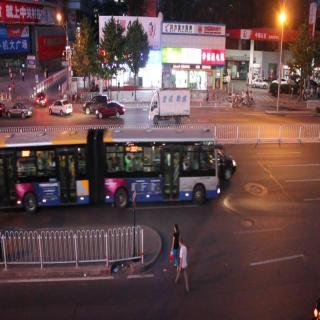BigCar: (0, 130, 233, 215), (144, 89, 194, 124)
Car: (3, 97, 34, 122), (81, 88, 109, 115), (49, 95, 74, 123), (94, 104, 127, 122)
